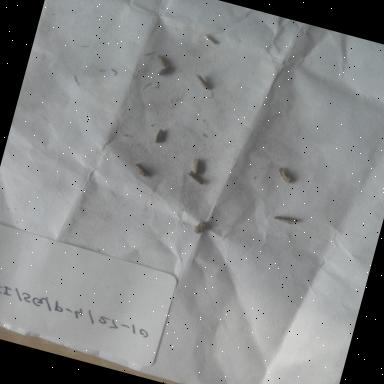pbw: (274, 165, 298, 186), (272, 212, 300, 229), (190, 73, 213, 93), (130, 162, 152, 180), (184, 170, 206, 188), (186, 155, 204, 176), (150, 126, 168, 146), (191, 219, 209, 237), (155, 63, 172, 80), (200, 34, 219, 48), (153, 54, 170, 68)
